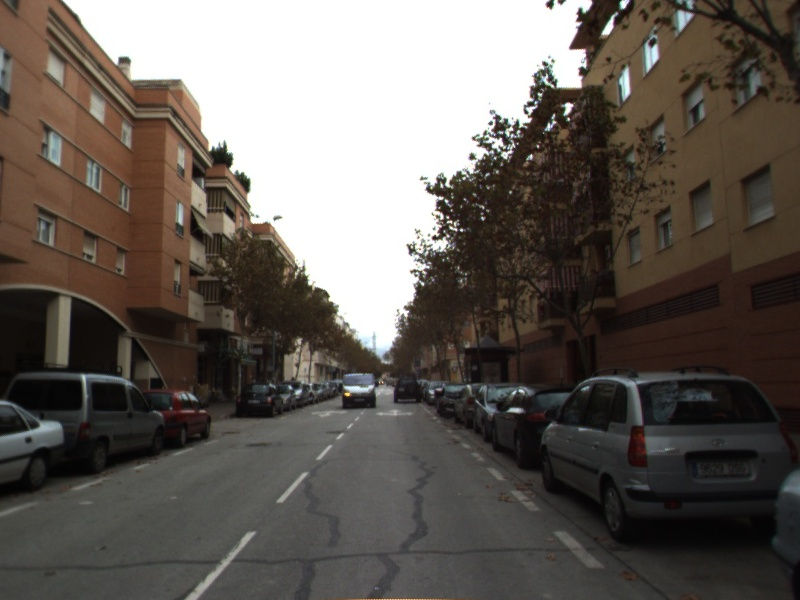STRAIGHT_LEFT_RIGHT: (374, 406, 416, 419)
